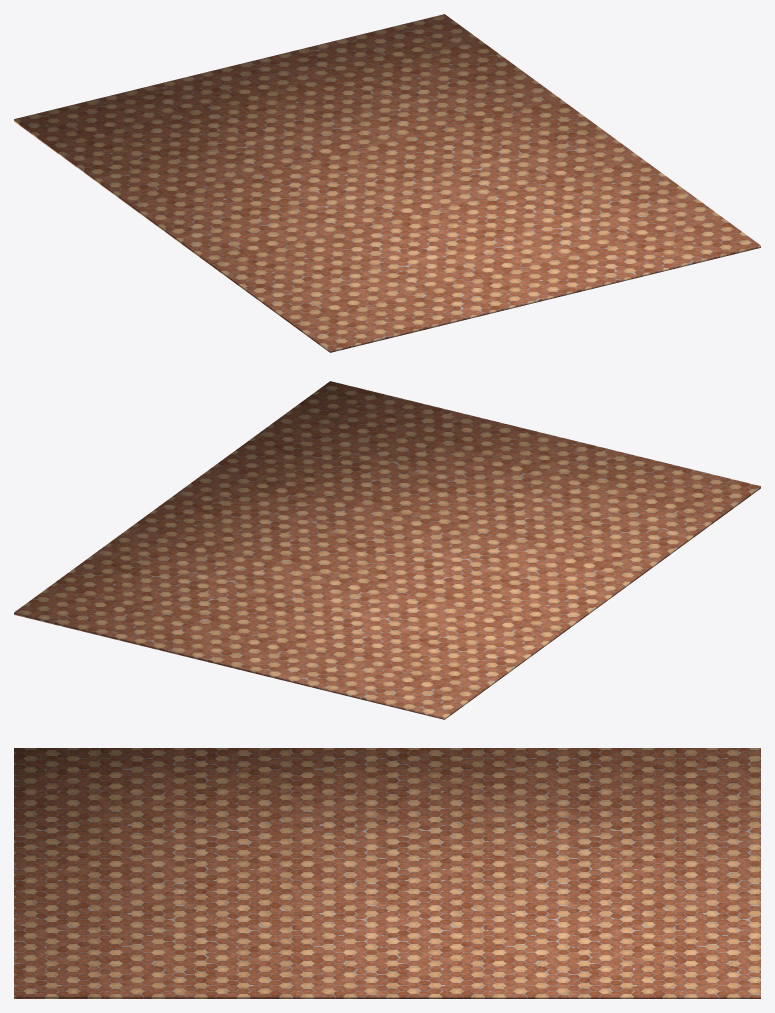
File: floor.obj
3 renders of one model, top to bottom at view 1: azimuth 30°, elevation 25°; view 2: azimuth 150°, elevation 25°; view 3: azimuth 270°, elevation 25°, orthographic. The views are drawn at different scales.
Parts seen in each view (by area): view 1: Floor; view 2: Floor; view 3: Floor.
Part boxes in pixels (x1,y1,x2,y2): Floor: [14, 14, 760, 352]; Floor: [14, 381, 760, 719]; Floor: [14, 748, 760, 998].
Bounding box in the file's own units: 11.23 × 0.0561 × 14.28.
Materials: 1 (1 with a texture image).
